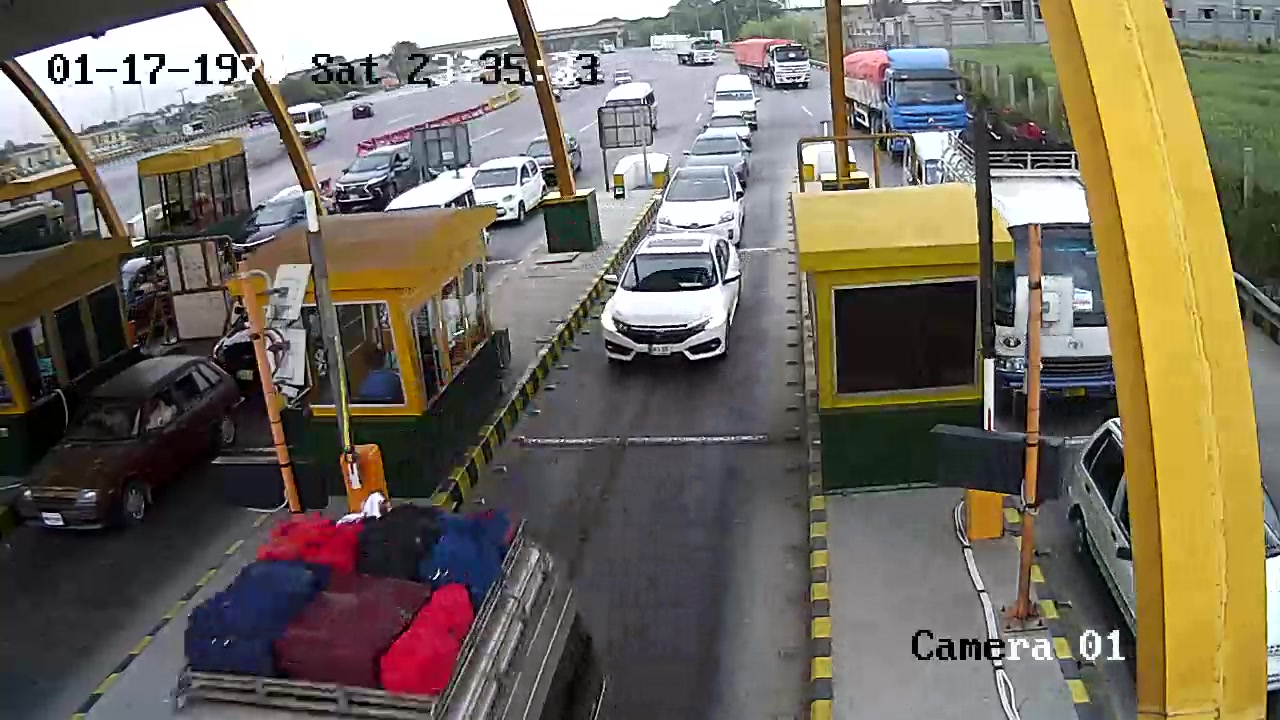F1: (585, 230, 752, 382)
